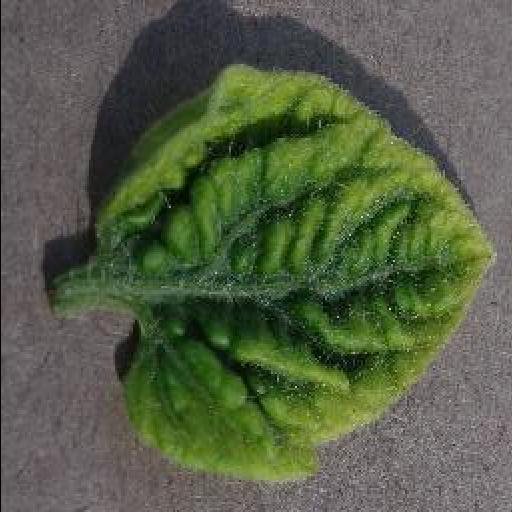disease_tomato: (90, 60, 498, 484)
